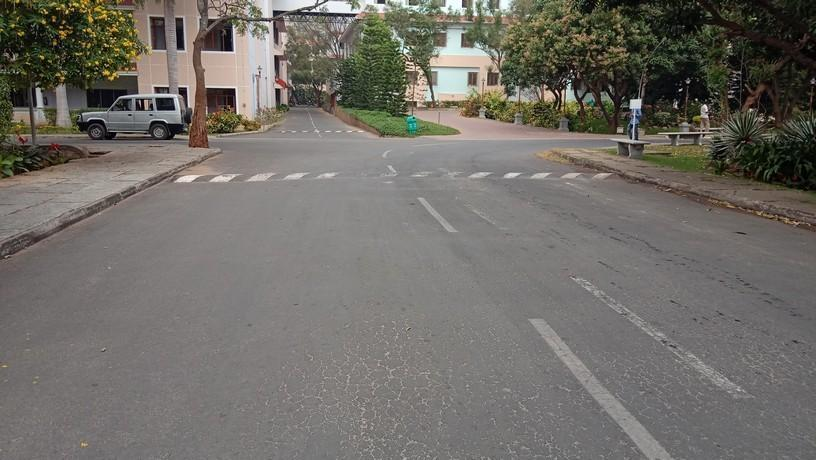speedbreaker: (161, 166, 621, 184)
